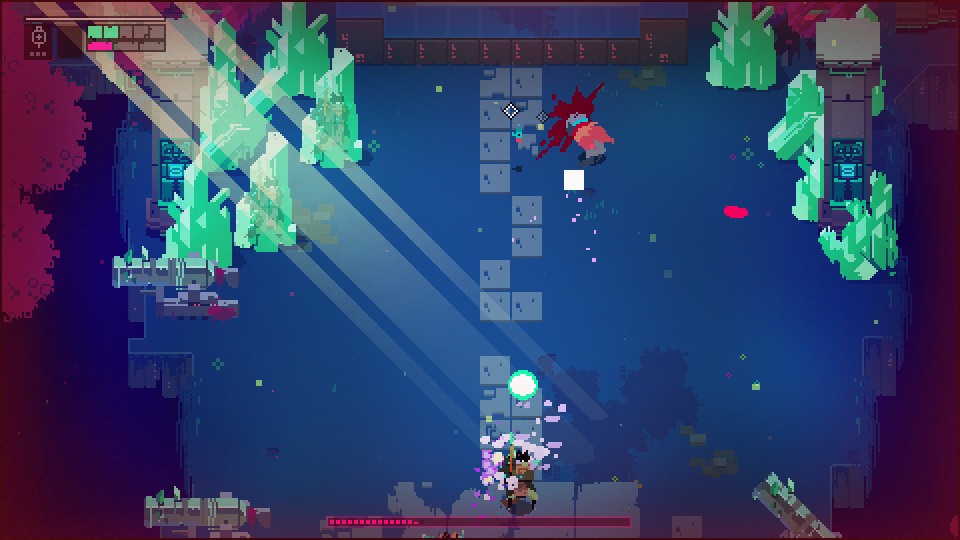hanged_shot: (506, 368, 539, 401)
player: (563, 112, 614, 163)
